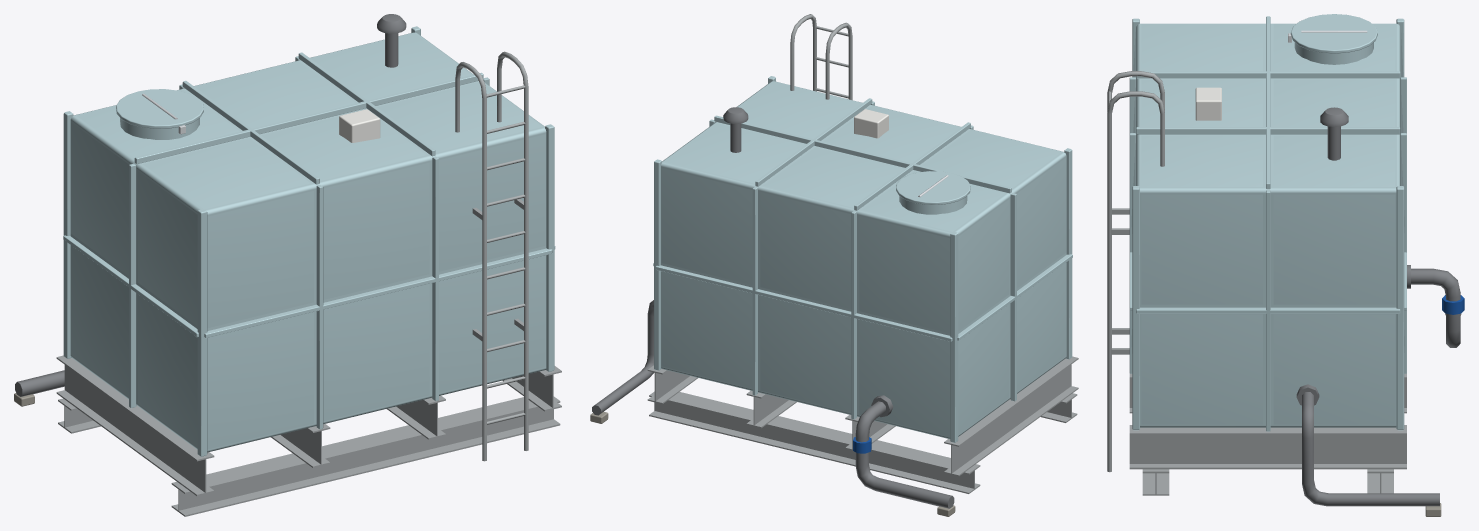
File: rooftop_water_tank.fbx
3 views of the same model, side by side, from view 1: azimuth 30°, elevation 25°; view 2: azimuth 150°, elevation 25°; view 3: azimuth 270°, elevation 25° (orthographic). The views are drawn at different scales.
Parts seen in each view (by area): view 1: rooftop_water_tank; view 2: rooftop_water_tank; view 3: rooftop_water_tank.
Part boxes in pixels (<box>): rooftop_water_tank: <box>14,14,561,516</box>; rooftop_water_tank: <box>590,14,1078,516</box>; rooftop_water_tank: <box>1107,14,1464,516</box>.
Size of the model in its own units: 3.72 by 3.17 by 2.7.
